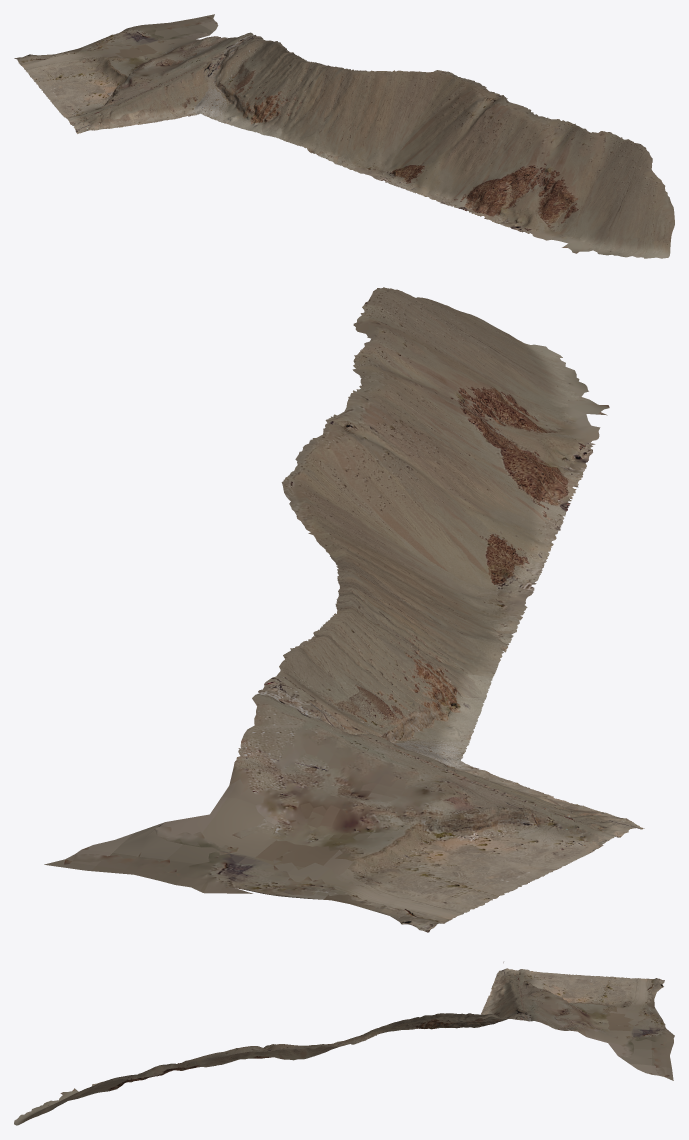
File: MOD_domainSurroundings_smallMountain.fbx
The picture shows the model from 3 angles, top to bottom: view 1: azimuth 30°, elevation 25°; view 2: azimuth 150°, elevation 25°; view 3: azimuth 270°, elevation 25°; orthographic projection. The views are drawn at different scales.
Visible parts, largest first — view 1: MOD_domainSurroundings_smallMountain; view 2: MOD_domainSurroundings_smallMountain; view 3: MOD_domainSurroundings_smallMountain.
Boxes of the visible parts, x1=… form: MOD_domainSurroundings_smallMountain: x1=14, y1=14, x2=674, y2=258; MOD_domainSurroundings_smallMountain: x1=44, y1=287, x2=644, y2=932; MOD_domainSurroundings_smallMountain: x1=14, y1=962, x2=674, y2=1125.
Size of the model in its own units: 43478 by 7879 by 76109.
